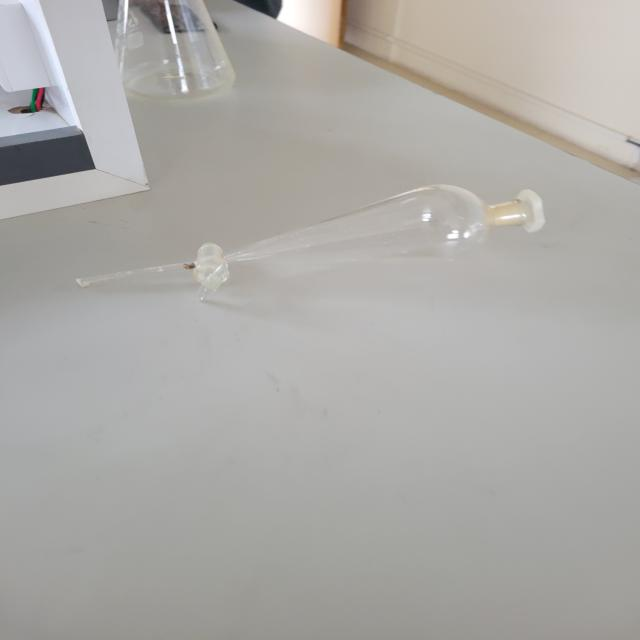Separating_Funnel: (55, 154, 560, 329)
